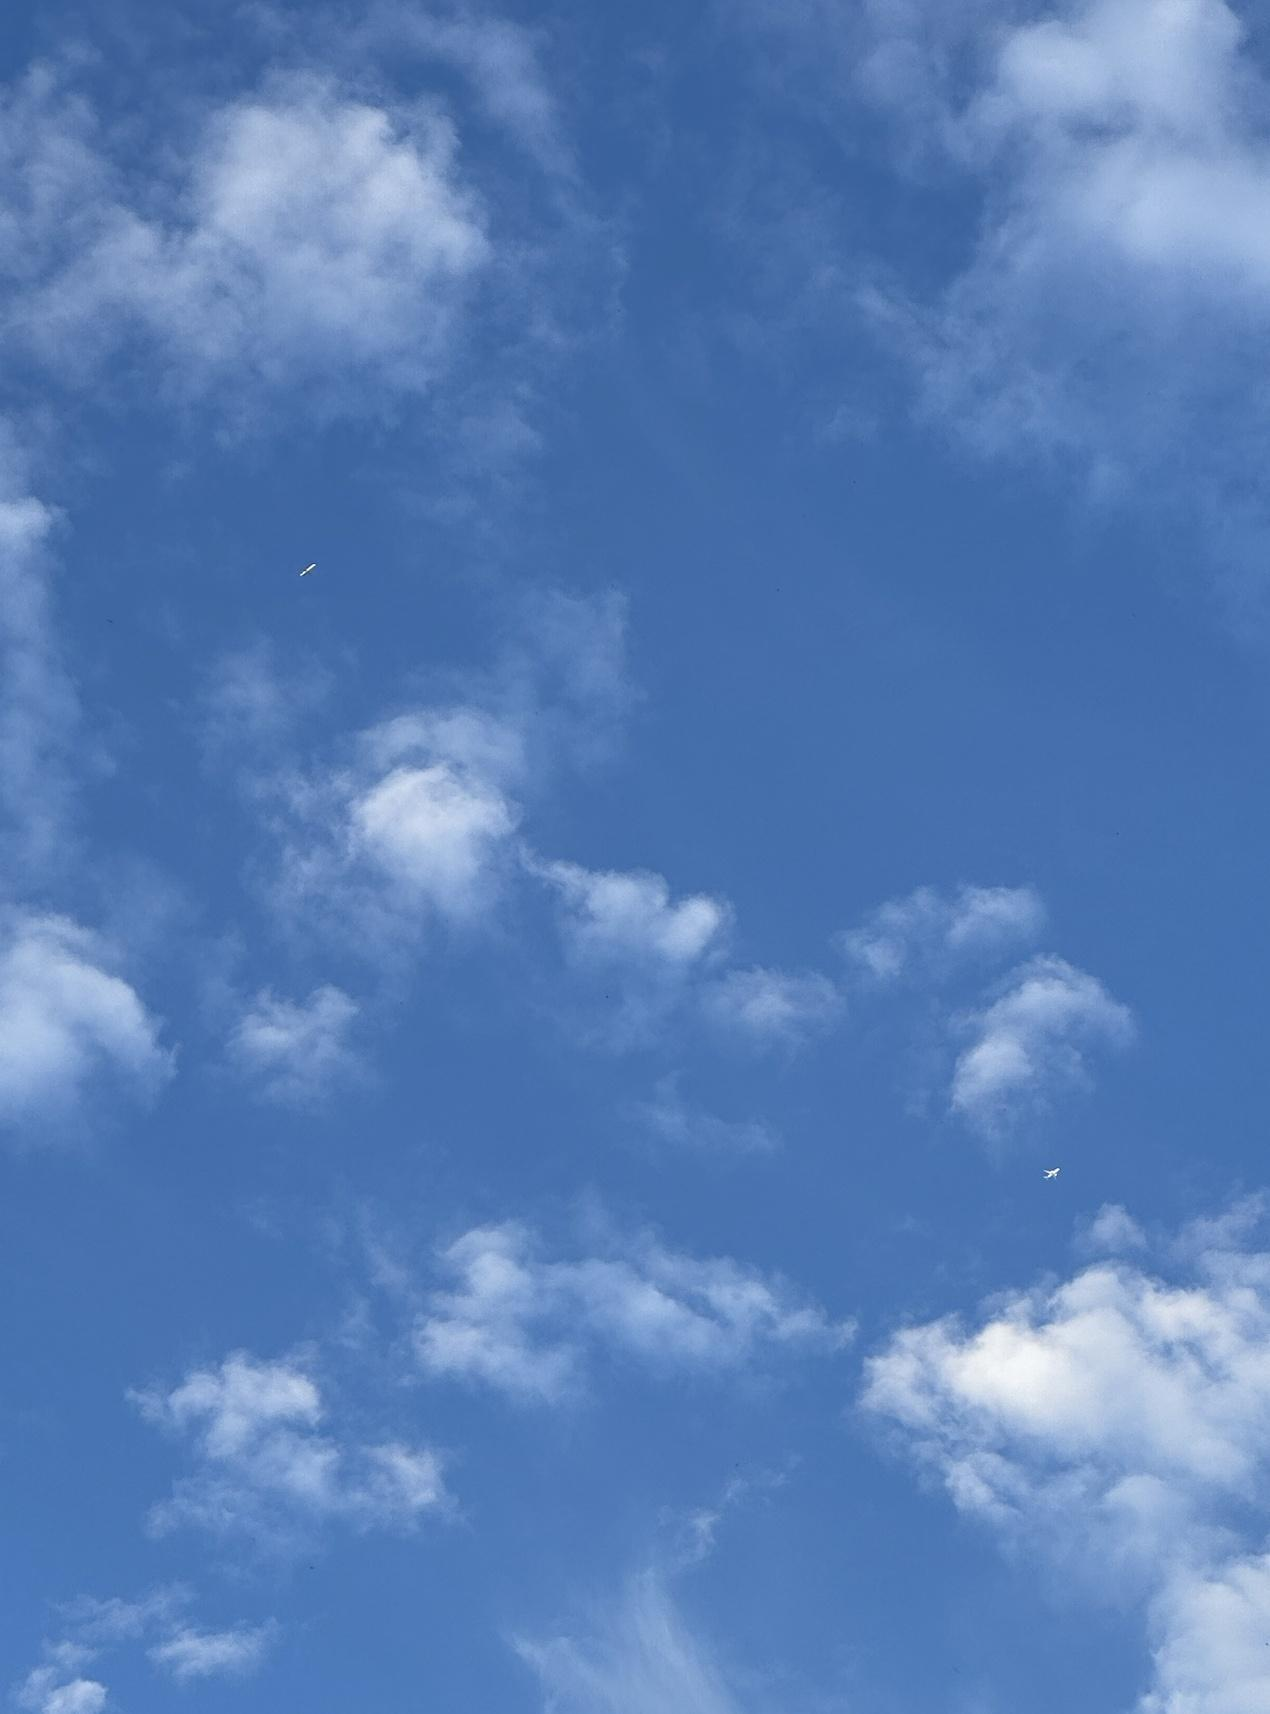Plane: (281, 543, 351, 599), (1025, 1163, 1086, 1186)
